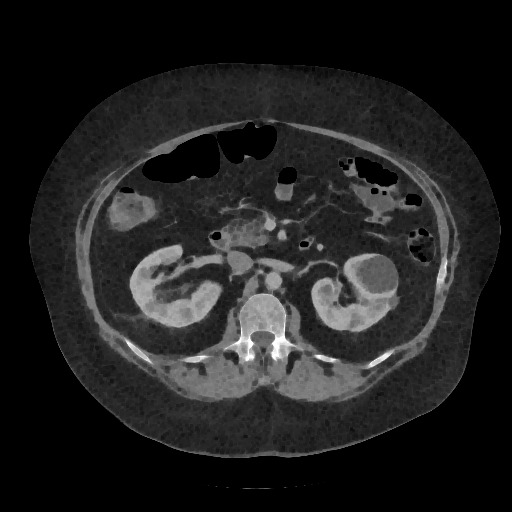Lesion: (356, 253, 402, 296)
